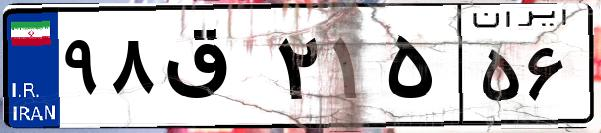1: (330, 28, 385, 110)
2: (270, 28, 330, 110)
5: (385, 28, 445, 110), (475, 38, 525, 113)
6: (525, 38, 570, 115)
8: (110, 28, 158, 98)
9: (57, 26, 110, 100)
ق: (158, 20, 270, 120)
